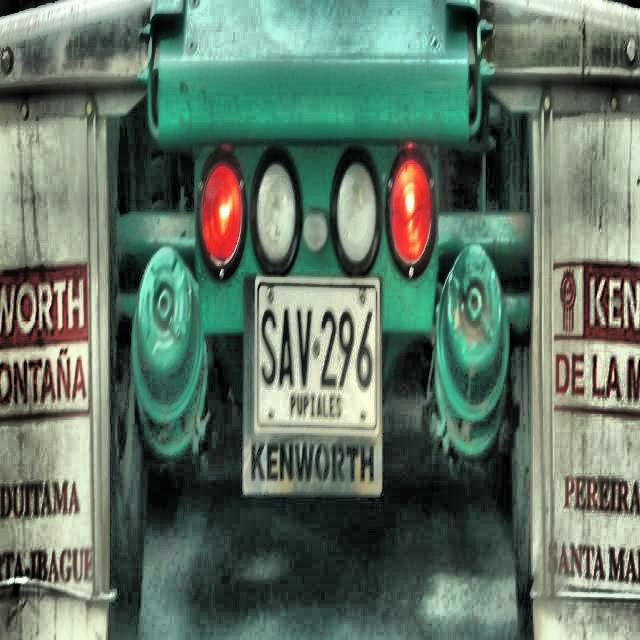plate: (256, 280, 379, 431)
